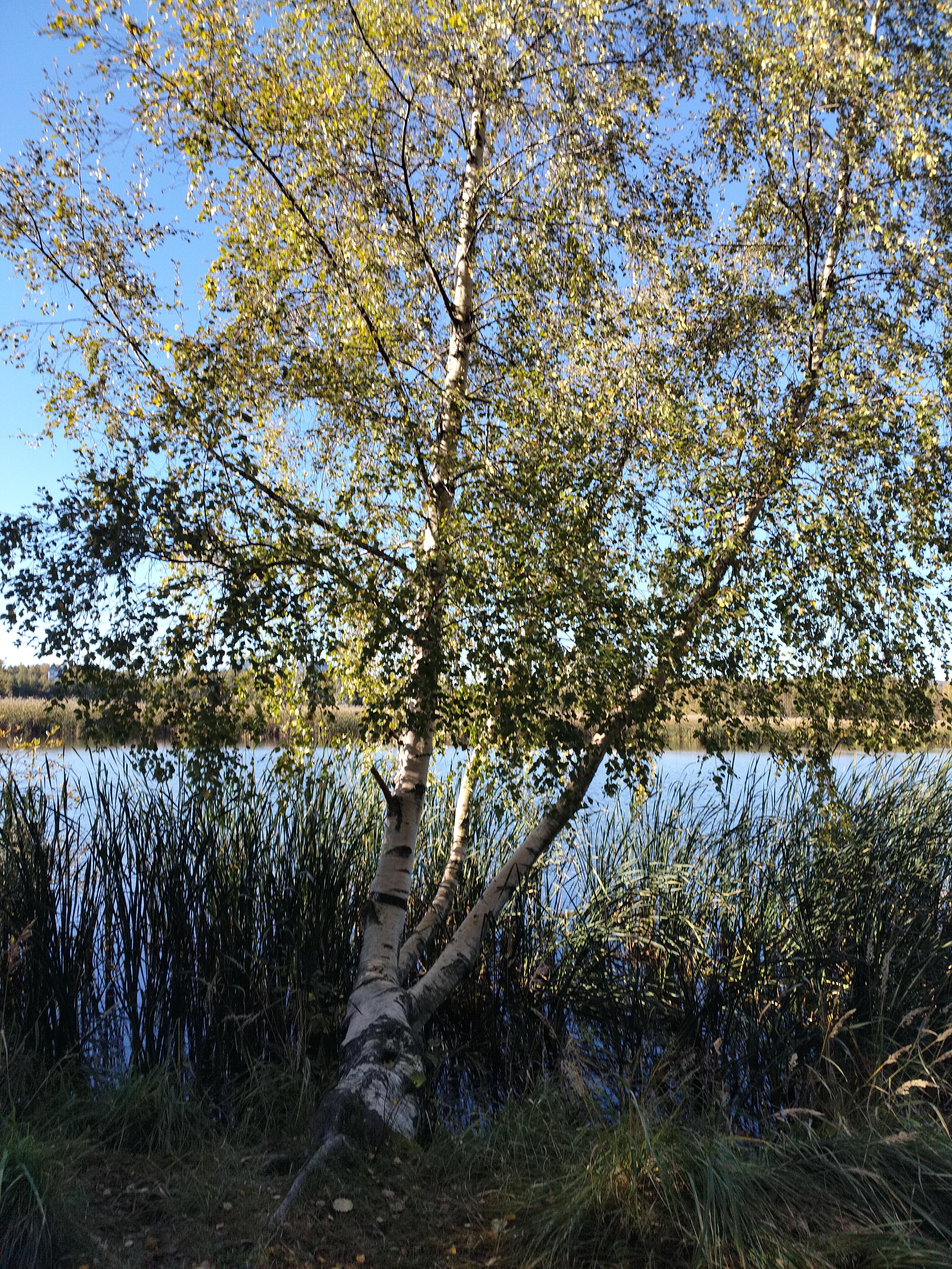Birch: (1, 1, 950, 1231)
